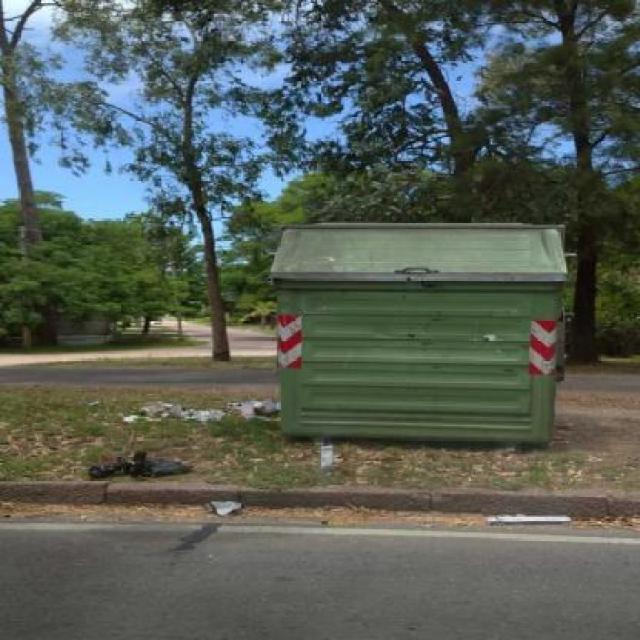garbage: (123, 397, 294, 426), (86, 451, 207, 488), (485, 507, 589, 526), (206, 500, 252, 520), (322, 442, 333, 471)
